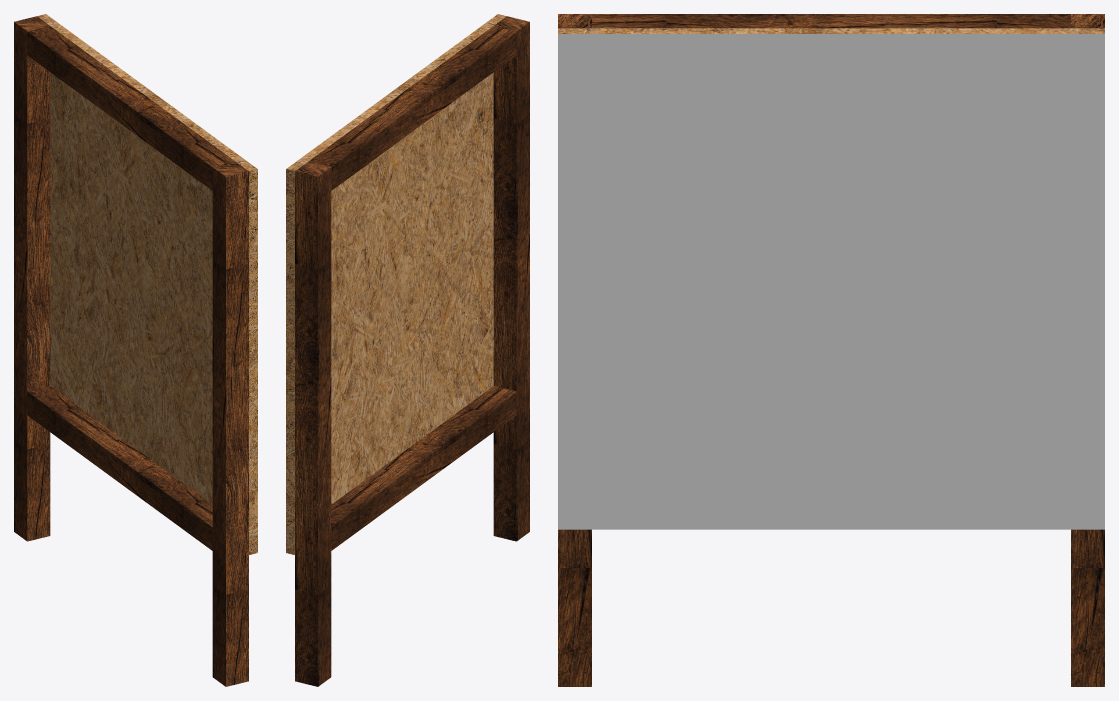
Rendered from Mapstand.fbx.
The picture shows the model from 3 angles, left to right: view 1: azimuth 30°, elevation 25°; view 2: azimuth 150°, elevation 25°; view 3: azimuth 270°, elevation 25°; orthographic projection. The views are drawn at different scales.
Parts seen in each view (by area): view 1: Map, Log3, Log4, Log2, Log1; view 2: Map, Log4, Log3, Log2, Log1; view 3: Map, Log2, Log4, Log3.
Part boxes in pixels (box(x1,y1,x2,y2)): Map: box(37, 14, 257, 554); Log3: box(212, 161, 248, 686); Log4: box(14, 16, 50, 541); Log2: box(27, 26, 235, 190); Log1: box(27, 386, 212, 550); Map: box(286, 14, 506, 554); Log4: box(295, 161, 331, 686); Log3: box(493, 16, 529, 541); Log2: box(308, 26, 516, 190); Log1: box(331, 386, 516, 550); Map: box(558, 28, 1104, 529); Log2: box(592, 14, 1070, 28); Log4: box(1071, 14, 1104, 686); Log3: box(558, 14, 591, 686).
Size of the model in its own units: 3.02 by 46.14 by 34.73.
